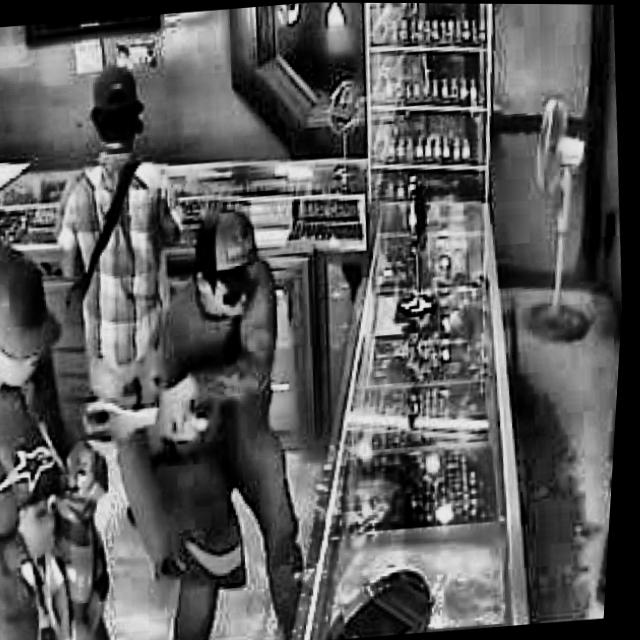robbery: (61, 198, 344, 640), (0, 232, 158, 640)
